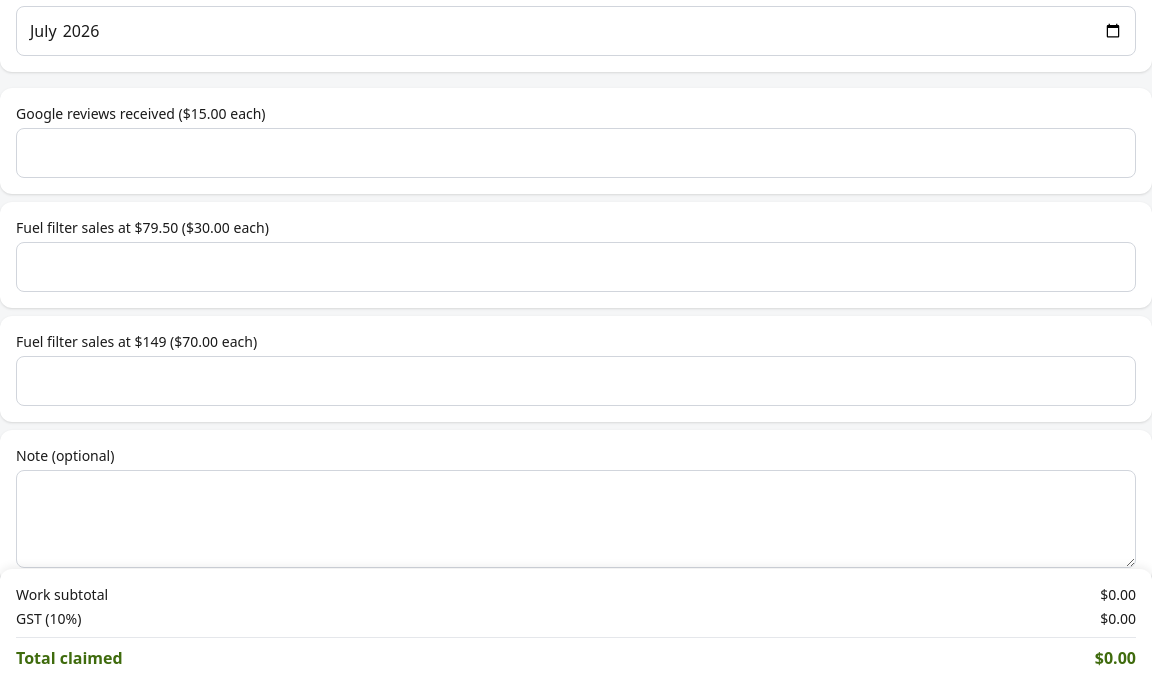
Test: MonthlyForm invoice number › suggests a number derived from the last day of the month
The image size is (1152, 686).
In the number field labelled "Google reviews received ($15.00 each)": x=576, y=153 x1=16 y1=128 x2=1136 y2=178, type "1"
(page scrolled)
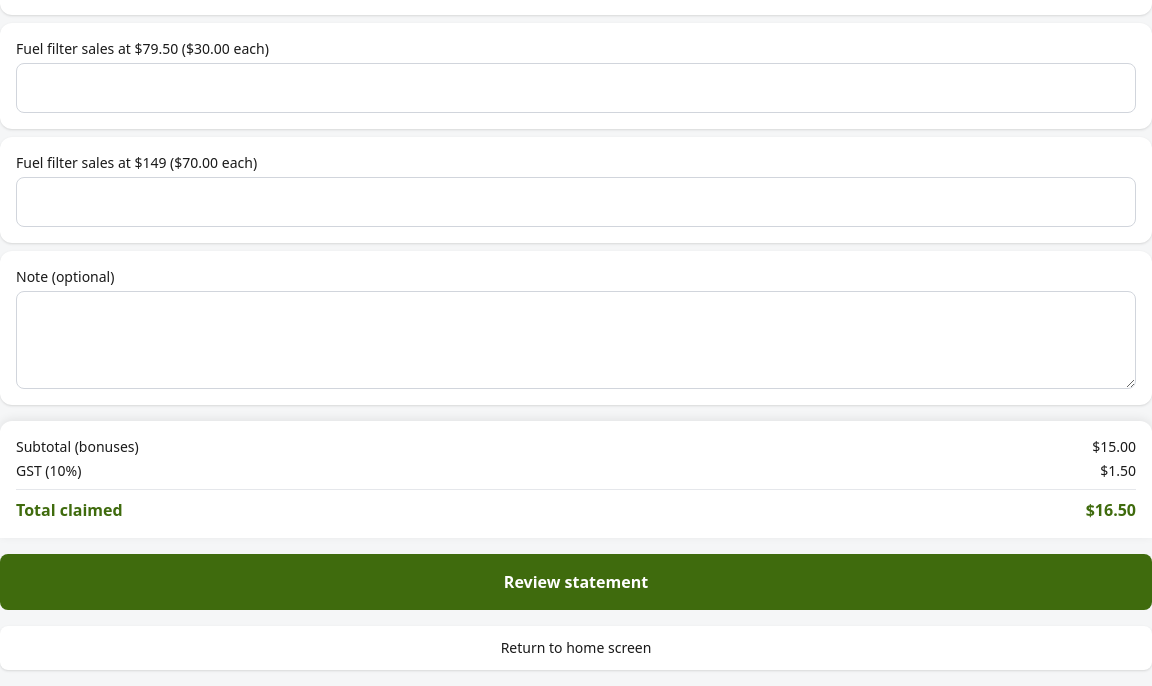
Click the button "Review statement": x=576, y=582 x1=0 y1=554 x2=1151 y2=610
(page scrolled)
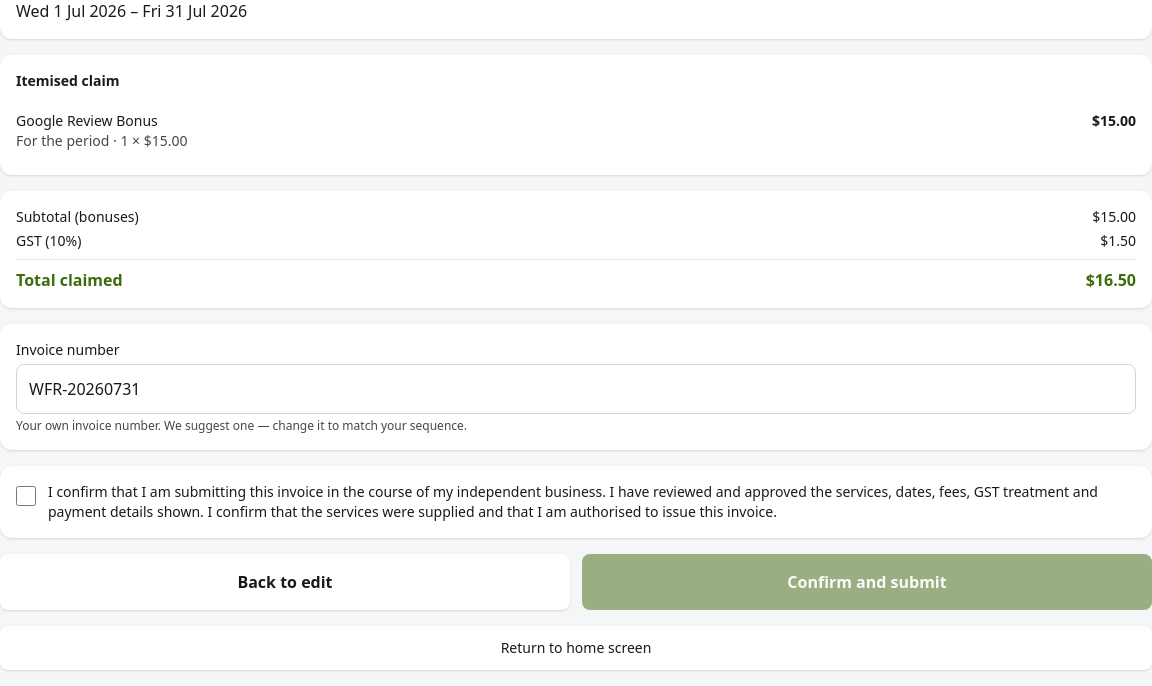
Expected: the field labelled "Invoice number" holds "WFR-20260731", x1=16 y1=364 x2=1136 y2=414
